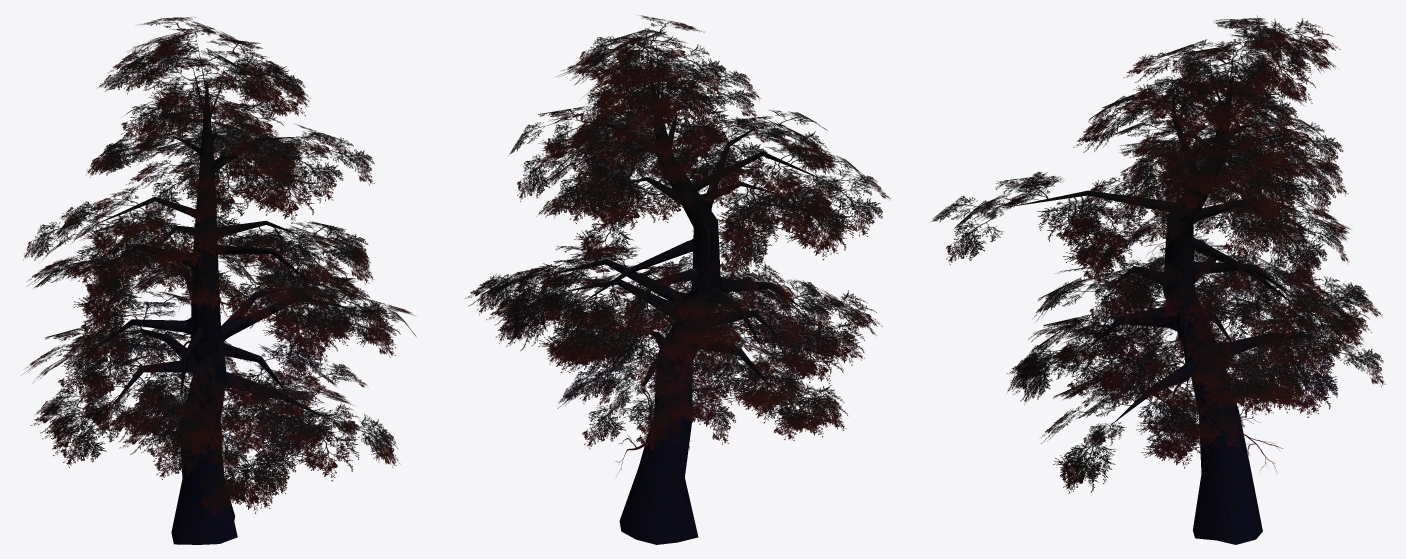
The model's file is Oak_B.glb.
3 renders of one model, left to right at view 1: azimuth 30°, elevation 25°; view 2: azimuth 150°, elevation 25°; view 3: azimuth 270°, elevation 25°, orthographic. The views are drawn at different scales.
Visible parts, largest first — view 1: OakTreeB_LOD0; view 2: OakTreeB_LOD0; view 3: OakTreeB_LOD0.
Boxes of the visible parts, bbox=[...] form: OakTreeB_LOD0: bbox=[21, 17, 416, 544]; OakTreeB_LOD0: bbox=[465, 15, 890, 544]; OakTreeB_LOD0: bbox=[931, 16, 1385, 544].
Size of what is drawn, in the model's own units: 20.15 by 23.35 by 19.35.
Materials: 2 (2 with a texture image).
